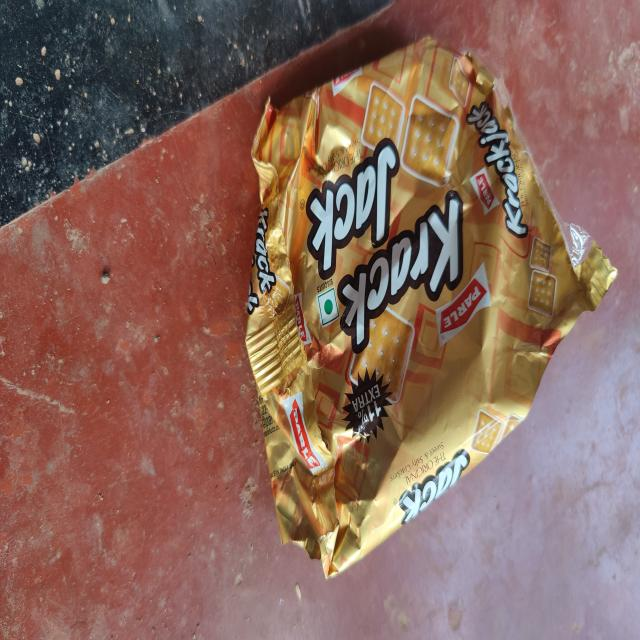plastic: (248, 41, 621, 586)
